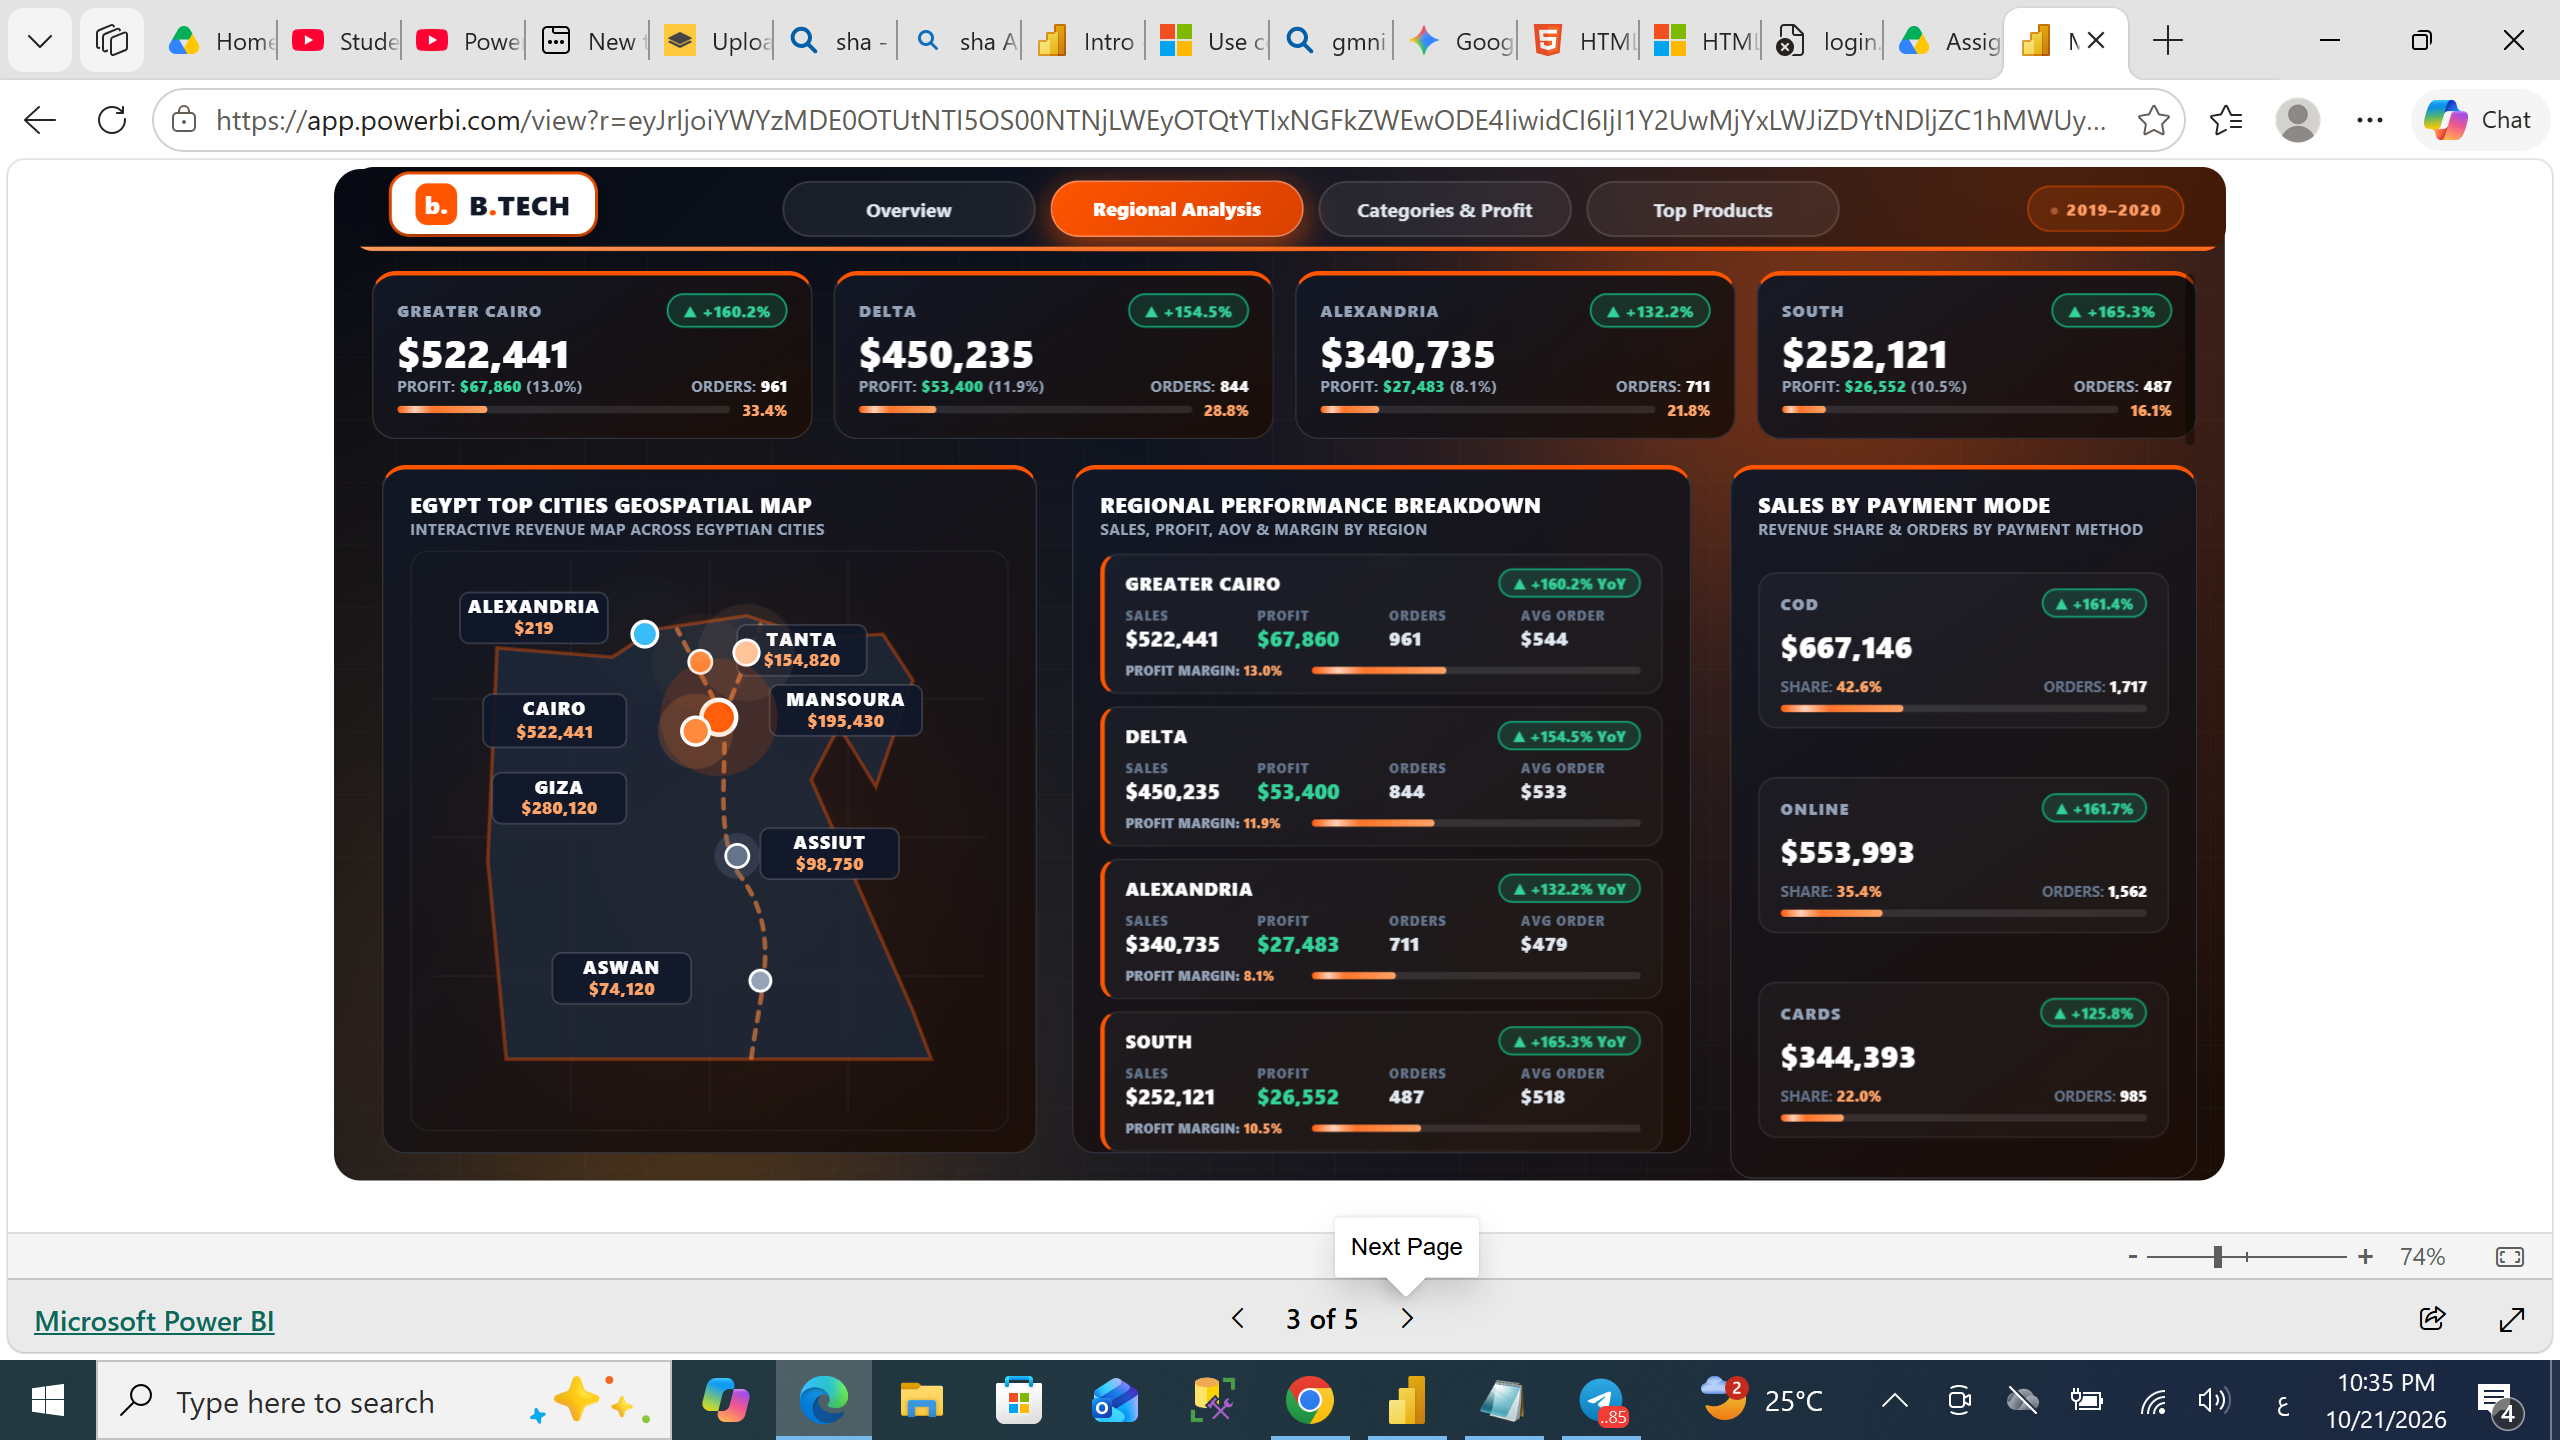

What the dashboard file says about the page in this screenshot:
{"tool":"powerbi","page":{"name":"Regional Analysis","canvas":[1280,720],"ordinal":2},"visuals":[{"type":"htmlContent443BE3AD55E043BF878BED274D3A6855","fields":{"content":["Dax (2).Bg_Page"]},"box":[0,2,1280,718],"z":0},{"type":"htmlContent443BE3AD55E043BF878BED274D3A6855","fields":{"content":["Dax (2).Nav_Regional"]},"box":[10.2,0,1270,70],"z":1000},{"type":"htmlContent443BE3AD55E043BF878BED274D3A6855","fields":{"content":["Dax (2).Reg_KPI_Cards"],"sampling":["Dax (2).Chart_Payment_Mode"]},"box":[26,70,1236,130],"z":2000},{"type":"htmlContent443BE3AD55E043BF878BED274D3A6855","fields":{"content":["Dax (2).Chart_Top_Cities"]},"box":[32,200,450,502],"z":2500},{"type":"actionButton","box":[40.9,10.2,139.8,51.1],"z":3000},{"type":"actionButton","box":[679.1,10.6,139.6,50.8],"z":4000},{"type":"actionButton","box":[833.6,2.1,171.4,61.4],"z":5000},{"type":"actionButton","box":[323.7,12.7,139.6,50.8],"z":6000},{"type":"htmlContent443BE3AD55E043BF878BED274D3A6855","fields":{"content":["Dax (2).Table_Region_Breakdown"]},"box":[496,200,426,502],"z":6001},{"type":"htmlContent443BE3AD55E043BF878BED274D3A6855","fields":{"content":["Dax (2).Chart_Payment_Mode"]},"box":[938,200,324,520],"z":6002}]}

Visuals, with their boxes on the page's 1280x720 design canvas (x1, y1, x2, y2). These are canvas units, not pixel positions in the 2560x1440 screenshot, which may show the page scaled, cropped or inside an application window:
htmlContent443BE3AD55E043BF878BED274D3A6855 - Dax (2).Bg_Page: (0, 2, 1280, 720)
htmlContent443BE3AD55E043BF878BED274D3A6855 - Dax (2).Nav_Regional: (10, 0, 1280, 70)
htmlContent443BE3AD55E043BF878BED274D3A6855 - Dax (2).Reg_KPI_Cards x Dax (2).Chart_Payment_Mode: (26, 70, 1262, 200)
htmlContent443BE3AD55E043BF878BED274D3A6855 - Dax (2).Chart_Top_Cities: (32, 200, 482, 702)
actionButton: (41, 10, 181, 61)
actionButton: (679, 11, 819, 61)
actionButton: (834, 2, 1005, 64)
actionButton: (324, 13, 463, 64)
htmlContent443BE3AD55E043BF878BED274D3A6855 - Dax (2).Table_Region_Breakdown: (496, 200, 922, 702)
htmlContent443BE3AD55E043BF878BED274D3A6855 - Dax (2).Chart_Payment_Mode: (938, 200, 1262, 720)
